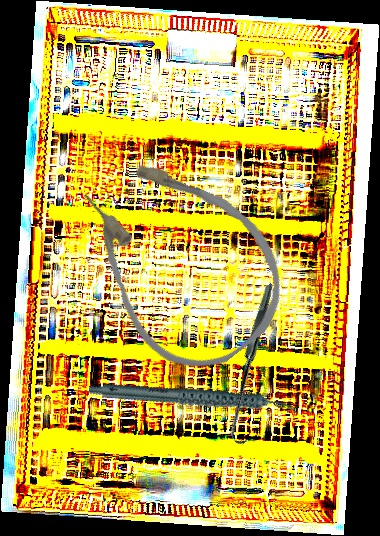Cannula: (49, 122, 312, 395)
Handpiece: (87, 342, 301, 457)
Hook Surgical: (172, 283, 338, 447)
